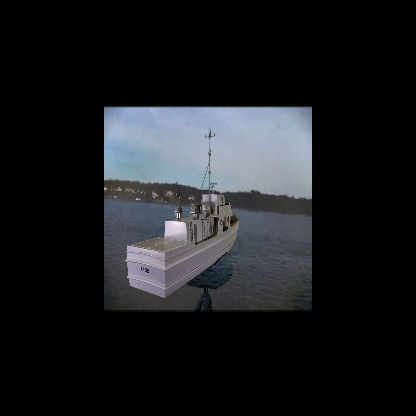YP689: (126, 127, 242, 297)
